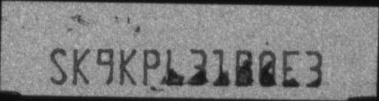0: (258, 49, 277, 86)
1: (212, 48, 230, 86)
3: (189, 46, 207, 85), (305, 48, 322, 88)
9: (96, 48, 114, 85)
B: (234, 48, 253, 87)
E: (282, 48, 301, 86)
K: (72, 47, 90, 85), (119, 48, 137, 86)
L: (165, 47, 183, 85)
P: (141, 48, 161, 85)
S: (47, 47, 68, 85)
